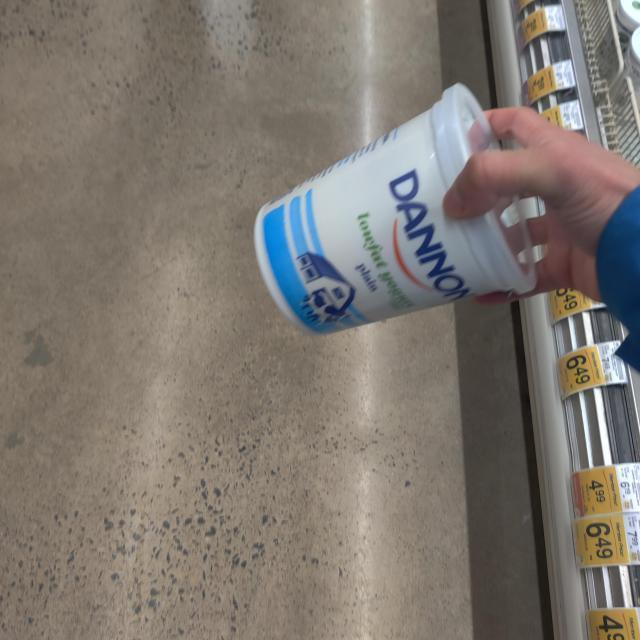Yogurt: (259, 83, 540, 332)
